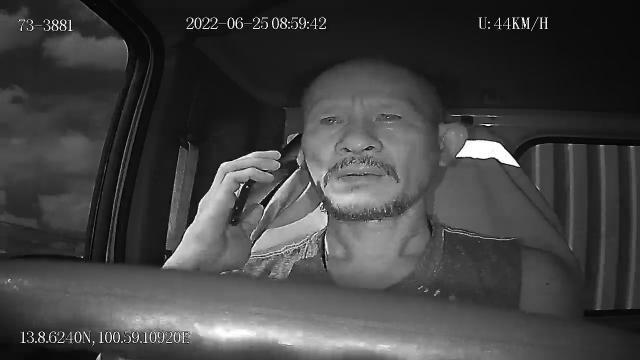PhoneUse: (230, 134, 302, 226)
SafeDriving: (368, 100, 410, 131), (312, 106, 352, 132)
